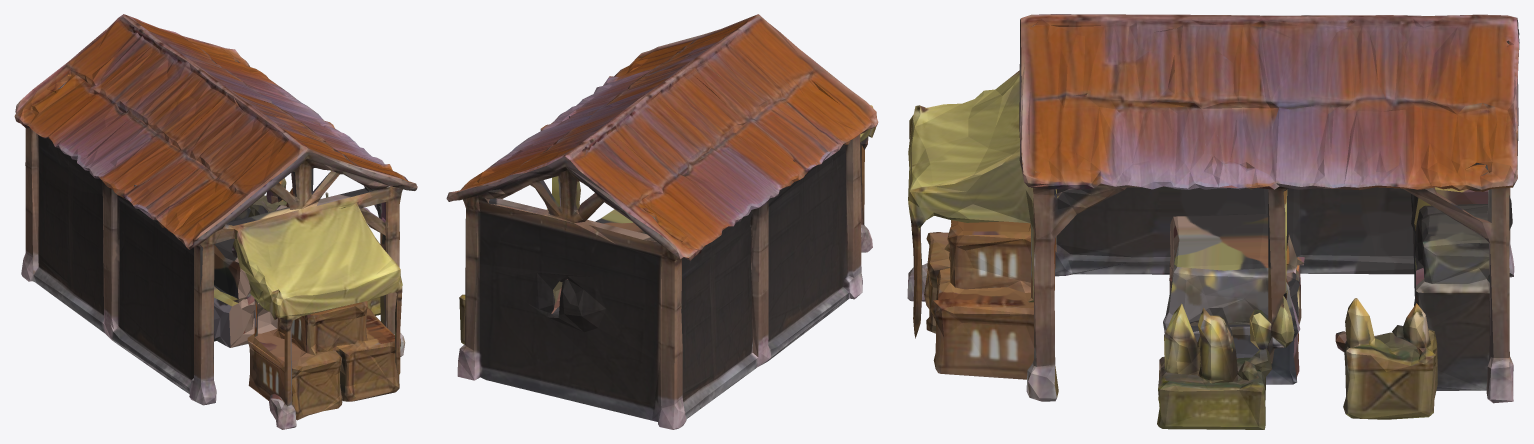
The model's file is war_munitions_1117.glb.
The picture shows the model from 3 angles, left to right: view 1: azimuth 30°, elevation 25°; view 2: azimuth 150°, elevation 25°; view 3: azimuth 270°, elevation 25°; orthographic projection. The views are drawn at different scales.
Parts seen in each view (by area): view 1: tmpi2k5zdhi.ply; view 2: tmpi2k5zdhi.ply; view 3: tmpi2k5zdhi.ply.
Boxes of the visible parts, x1,y1,x2,y2 form: tmpi2k5zdhi.ply: (14,14,417,429); tmpi2k5zdhi.ply: (446,14,878,429); tmpi2k5zdhi.ply: (907,14,1519,429).
Bounding box in the file's own units: 1.33 × 1.15 × 1.99.
1 material, 1 textured.
